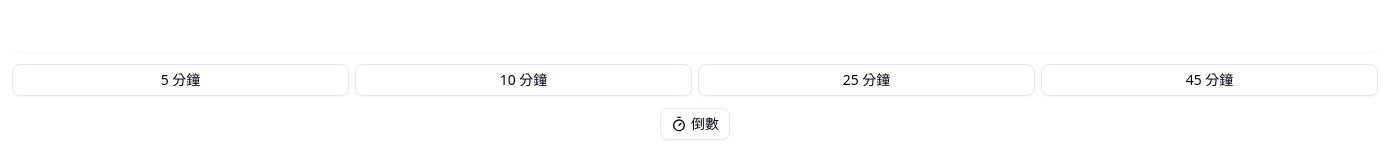
Test: Timer › 任務描述功能 › 計時中不應顯示任務描述輸入框
The width and height of the screenshot is (1390, 160).
Click the button "5 分鐘" at (180, 80), box [12, 64, 349, 96]
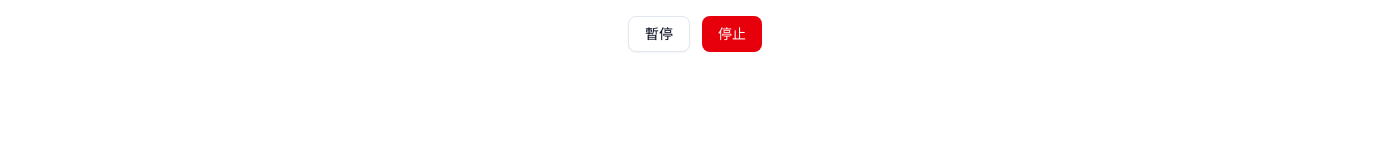
Expected: the field with placeholder "這次要做什麼？（選填）" is gone
